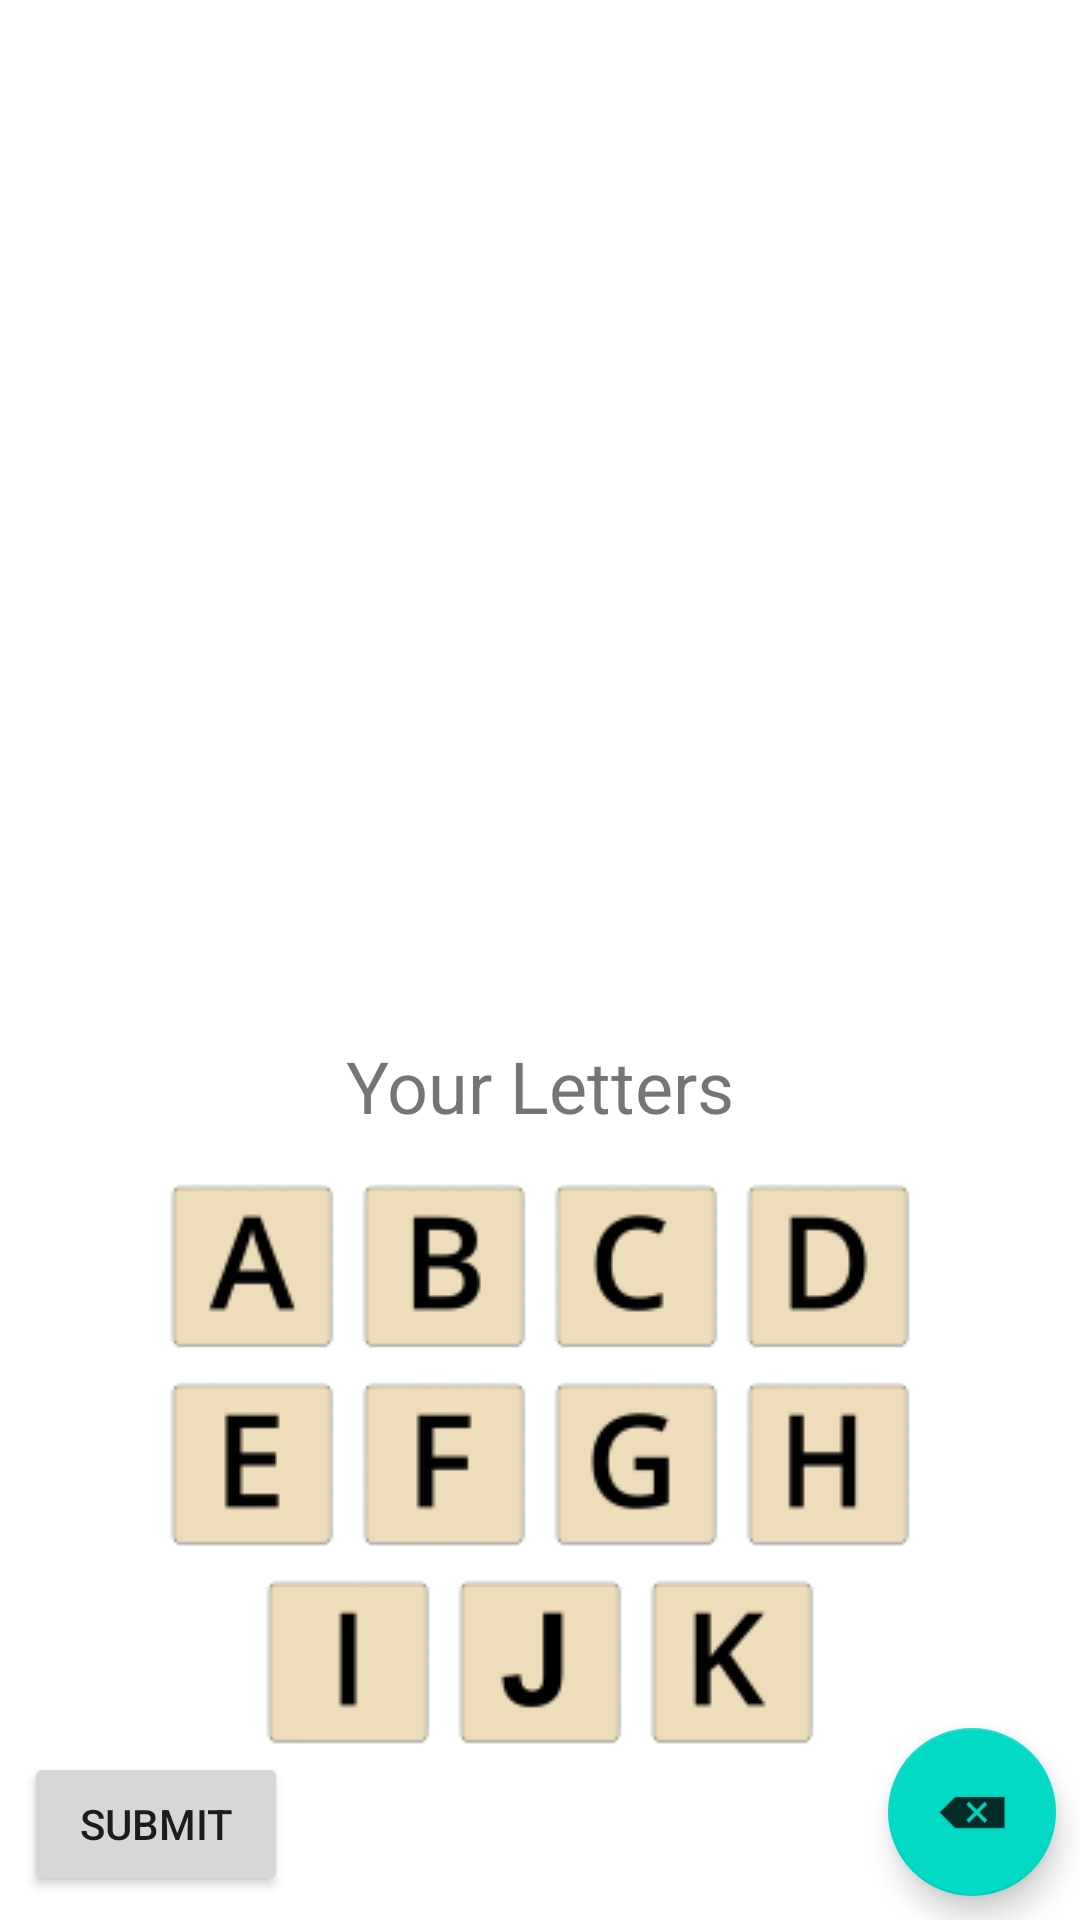

Locate icon controls on the screen. Image size 1080×1920, boxes as (x1, y1, x2, y2).
delete: (888, 1728, 1056, 1896)
